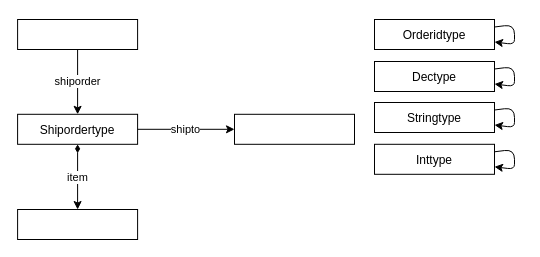
The diagram is 540 pixels wide and 257 high, and some of its shapes have lost their labels. Here are the shapes that lost their labels. From the top down, the centre of each, then its label:
point 77,34: DocumentRoot
point 294,128: Shiptotype
point 77,224: Itemtype
